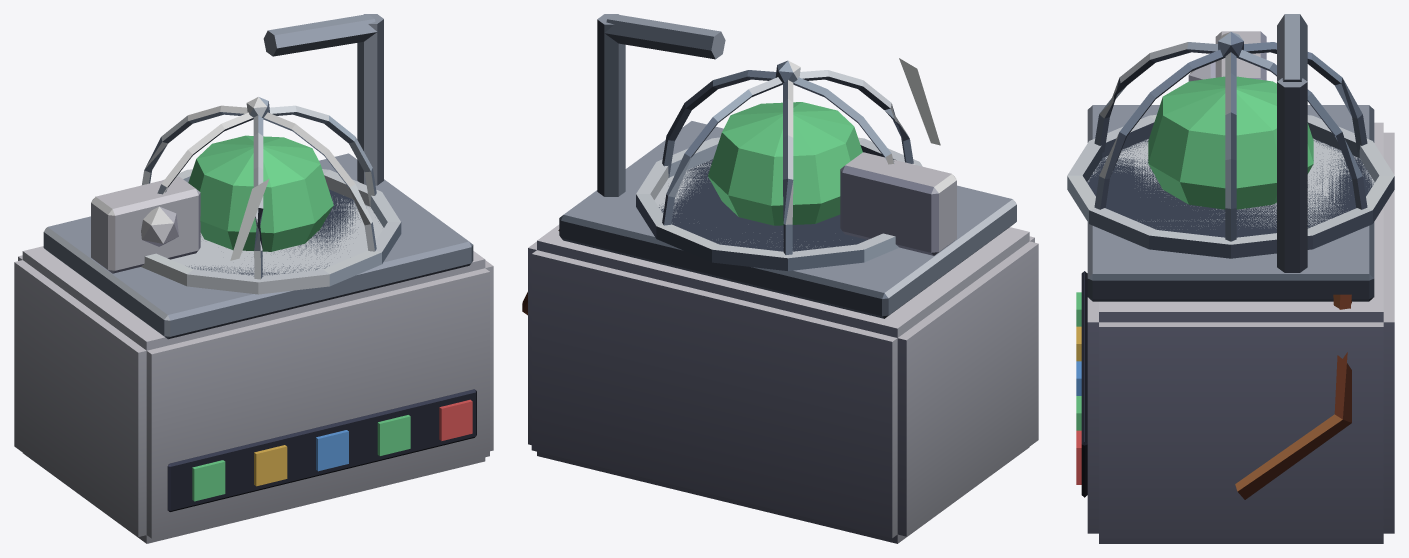
File: lab_machine.glb
3 views of the same model, side by side, from view 1: azimuth 30°, elevation 25°; view 2: azimuth 150°, elevation 25°; view 3: azimuth 270°, elevation 25° (orthographic). The views are drawn at different scales.
Visible parts, largest first — view 1: lab_machine; view 2: lab_machine; view 3: lab_machine.
Part boxes in pixels (x1,y1,x2,y2): lab_machine: (14, 14, 493, 543); lab_machine: (522, 14, 1038, 543); lab_machine: (1067, 14, 1394, 543).
Bounding box in the file's own units: 0.9791 × 0.9859 × 0.64.
